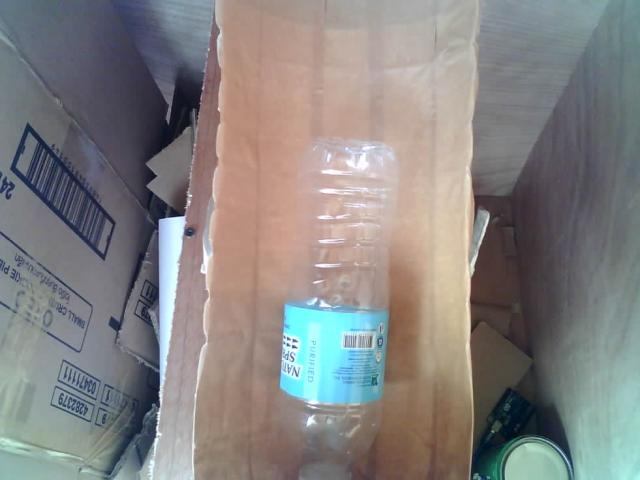small_bottle: (263, 135, 421, 480)
